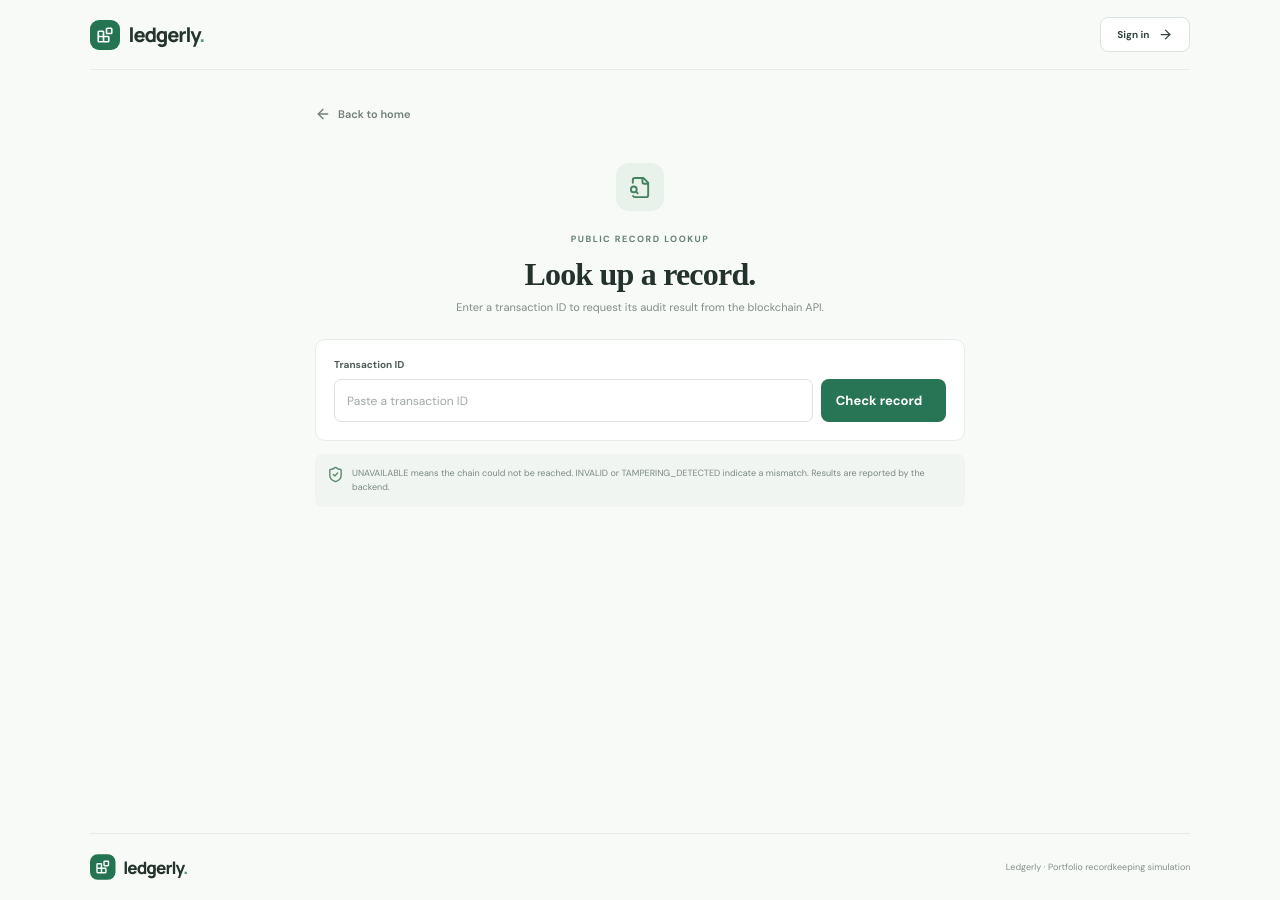
it: public blockchain audit lookup › validates an empty transaction ID without requesting the audit endpoint
Click the button "Check record".
click(884, 400)  # box [821,379,946,422]
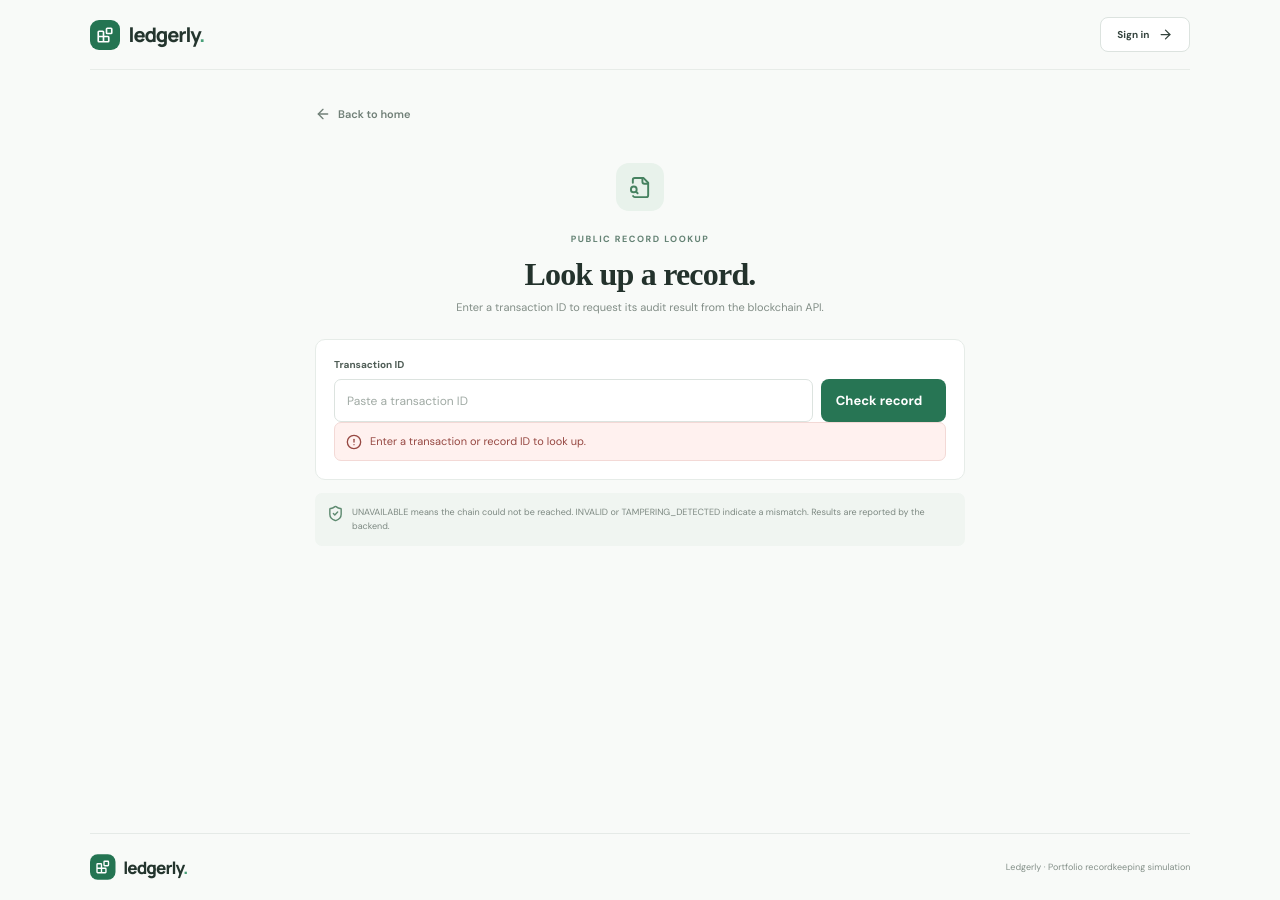
Check: the message shows "Enter a transaction or record ID", box [370,434,586,448]
